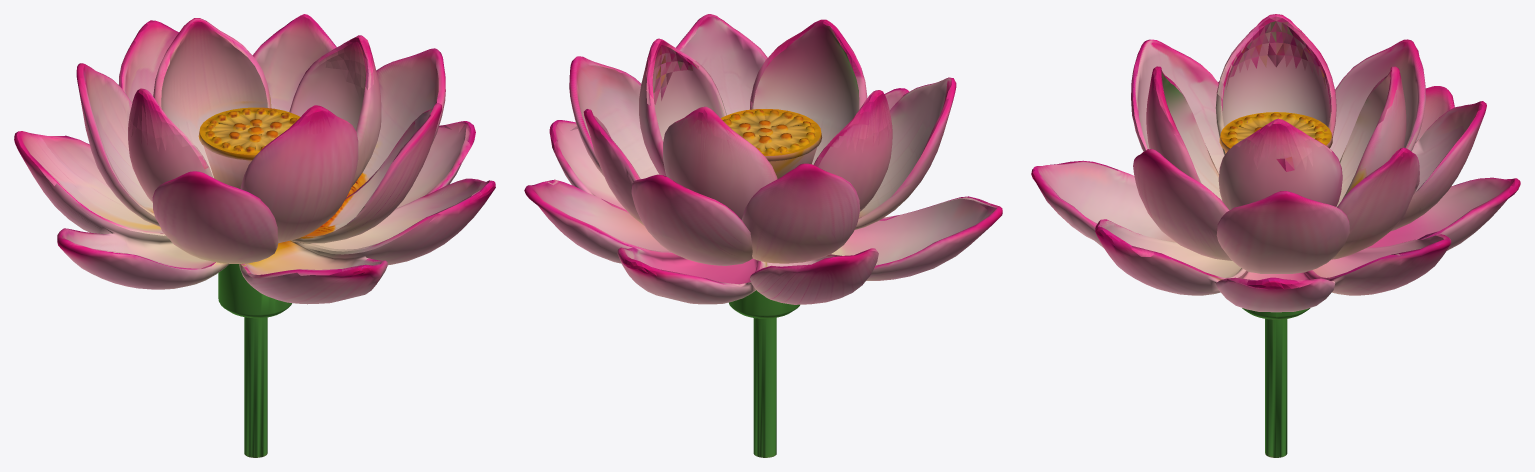
The model's file is flower1.glb.
3 views of the same model, side by side, from view 1: azimuth 30°, elevation 25°; view 2: azimuth 150°, elevation 25°; view 3: azimuth 270°, elevation 25° (orthographic).
Visible parts, largest first — view 1: texture_pbr_v128; view 2: texture_pbr_v128; view 3: texture_pbr_v128.
Boxes of the visible parts, x1,y1,x2,y2 form: texture_pbr_v128: [14, 14, 495, 457]; texture_pbr_v128: [524, 14, 1002, 457]; texture_pbr_v128: [1031, 14, 1520, 457].
Size of the model in its own units: 1.07 by 0.93 by 1.07.
1 material, 1 textured.
